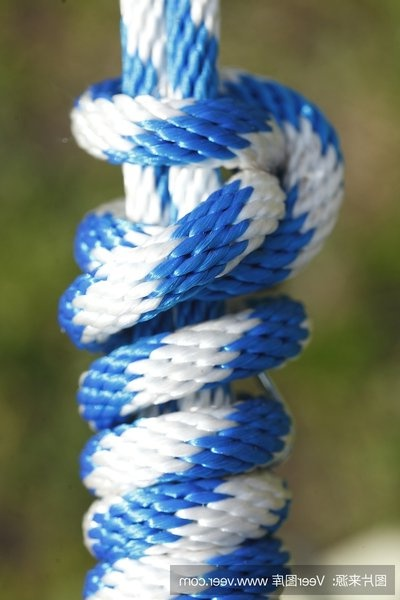9/可回收垃圾/绳子: (57, 1, 344, 600)
